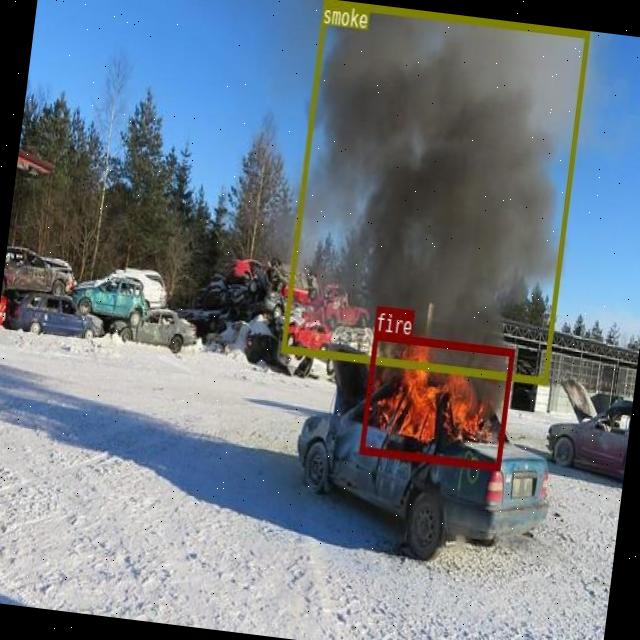fire: (358, 331, 513, 468)
smoke: (280, 0, 588, 382)
